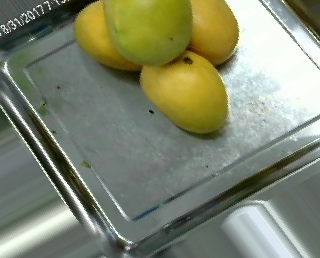Mango: (137, 48, 239, 140), (100, 1, 194, 67), (72, 3, 147, 71), (175, 2, 240, 63)
